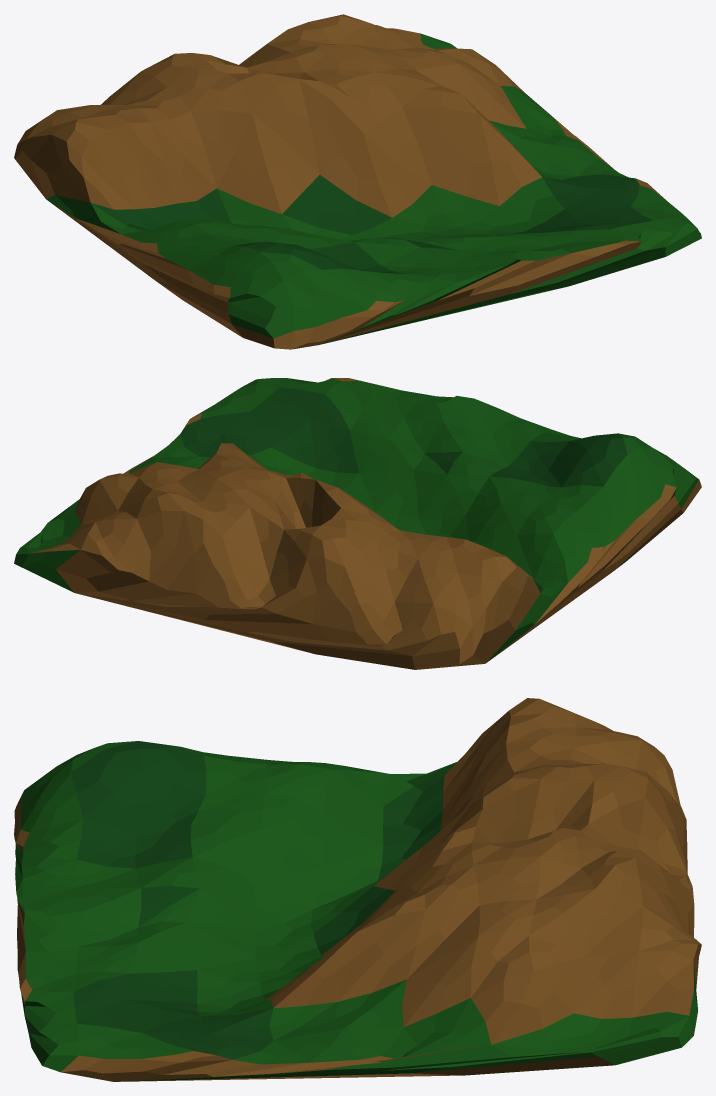
The model's file is _and3.fbx.
3 renders of one model, top to bottom at view 1: azimuth 30°, elevation 25°; view 2: azimuth 150°, elevation 25°; view 3: azimuth 270°, elevation 25°, orthographic. The views are drawn at different scales.
Parts seen in each view (by area): view 1: Land2; view 2: Land2; view 3: Land2.
Part boxes in pixels (bbox=[...]): Land2: bbox=[14, 14, 701, 349]; Land2: bbox=[14, 378, 701, 669]; Land2: bbox=[14, 698, 701, 1081].
Size of the model in its own units: 10026 by 2420 by 10201.
